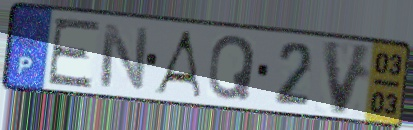2: (272, 40, 315, 110)
A: (150, 29, 203, 100)
E: (45, 16, 103, 90)
N: (97, 21, 151, 93)
Q: (206, 33, 258, 102)
V: (320, 37, 376, 118)
